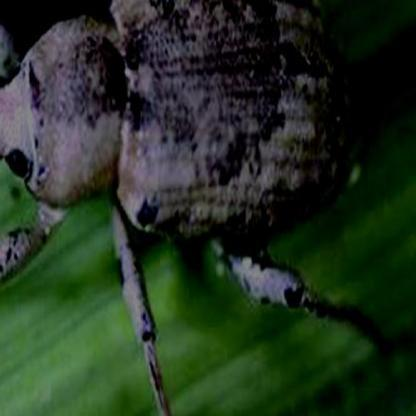rice-bug: (2, 3, 348, 292)
